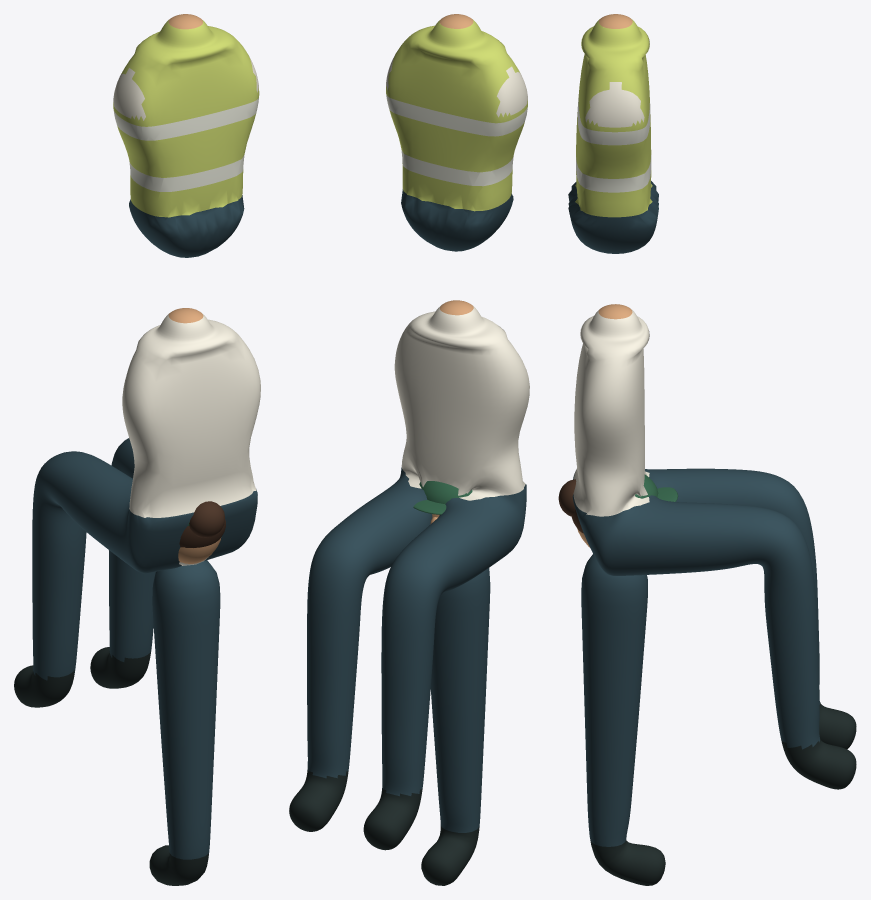
Rendered from personas.glb.
3 views of the same model, side by side, from view 1: azimuth 30°, elevation 25°; view 2: azimuth 150°, elevation 25°; view 3: azimuth 270°, elevation 25° (orthographic). The views are drawn at different scales.
Visible parts, largest first — view 1: Sentado, TorsoDePie, Pierna, Cabeza, Moño; view 2: Sentado, TorsoDePie, Pierna, Gorra; view 3: Sentado, Pierna, TorsoDePie.
Part boxes in pixels (left/top/right/bottom): Sentado: left=14, top=308, right=260, bottom=707; TorsoDePie: left=113, top=14, right=259, bottom=257; Pierna: left=149, top=560, right=220, bottom=885; Cabeza: left=178, top=519, right=225, bottom=563; Moño: left=189, top=501, right=224, bottom=537; Sentado: left=289, top=300, right=529, bottom=850; TorsoDePie: left=386, top=14, right=527, bottom=251; Pierna: left=421, top=568, right=490, bottom=885; Gorra: left=413, top=481, right=472, bottom=514; Sentado: left=572, top=304, right=856, bottom=789; Pierna: left=581, top=554, right=665, bottom=885; TorsoDePie: left=568, top=14, right=658, bottom=253.
Bounding box in the file's own units: 0.379 × 2.42 × 0.754.
